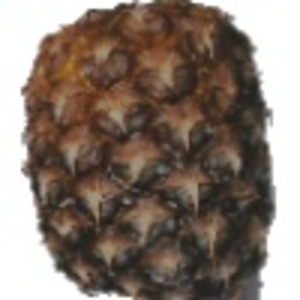abacaxi: (13, 1, 288, 298)
